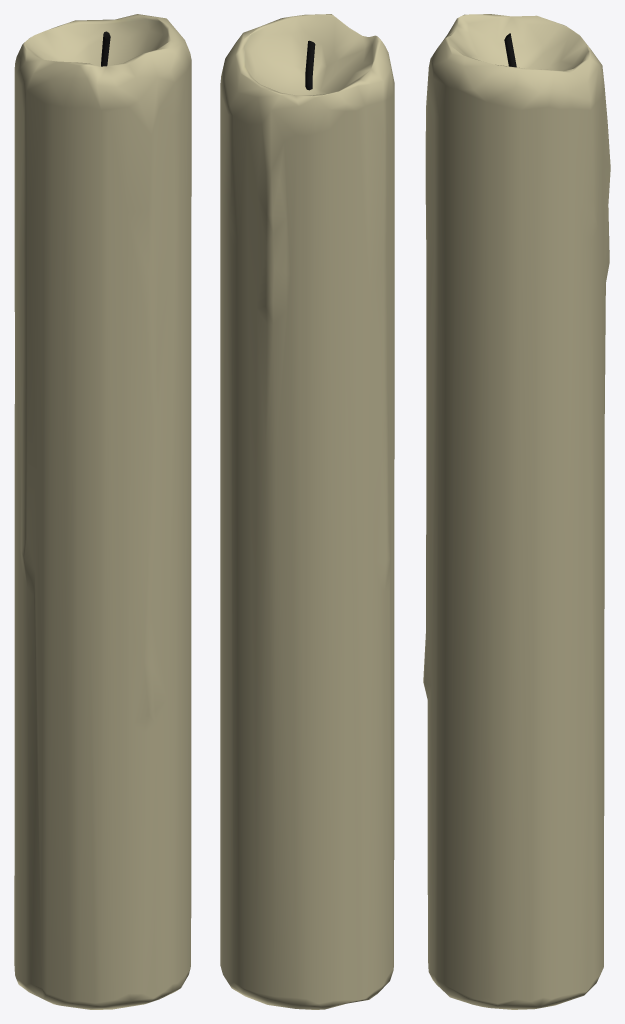
Rendered from SM_Candle.glb.
The picture shows the model from 3 angles, left to right: view 1: azimuth 30°, elevation 25°; view 2: azimuth 150°, elevation 25°; view 3: azimuth 270°, elevation 25°; orthographic projection.
Parts seen in each view (by area): view 1: SM_Candle; view 2: SM_Candle; view 3: SM_Candle.
Boxes of the visible parts, x1,y1,x2,y2 form: SM_Candle: (14, 14, 191, 1009); SM_Candle: (220, 14, 394, 1009); SM_Candle: (423, 14, 610, 1009).
Bounding box in the file's own units: 0.0326 × 0.1868 × 0.0336.
Materials: 1 (1 with a texture image).
